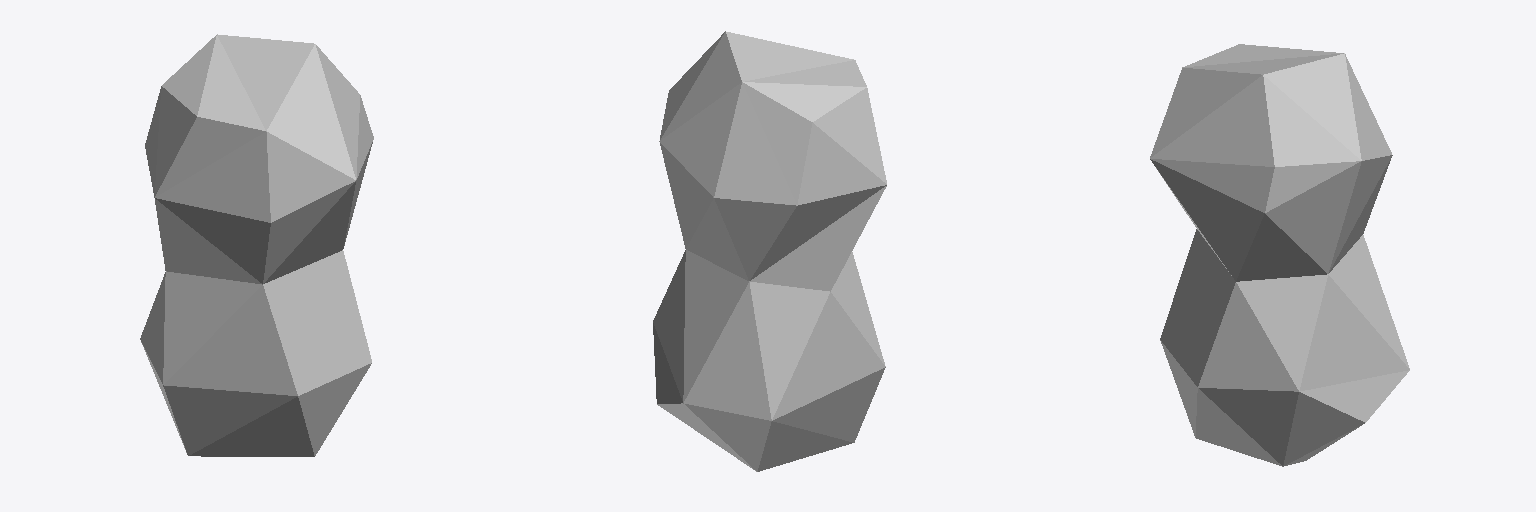
3 renders of one model, left to right at view 1: azimuth 30°, elevation 25°; view 2: azimuth 150°, elevation 25°; view 3: azimuth 270°, elevation 25°, orthographic.
Visible parts, largest first — view 1: Mball.002_Mesh.001; view 2: Mball.002_Mesh.001; view 3: Mball.002_Mesh.001.
Boxes of the visible parts, <box> form: Mball.002_Mesh.001: <box>140,34,373,456</box>; Mball.002_Mesh.001: <box>653,31,886,471</box>; Mball.002_Mesh.001: <box>1150,44,1409,466</box>.
Size of the model in its own units: 2.51 by 4.47 by 2.56.